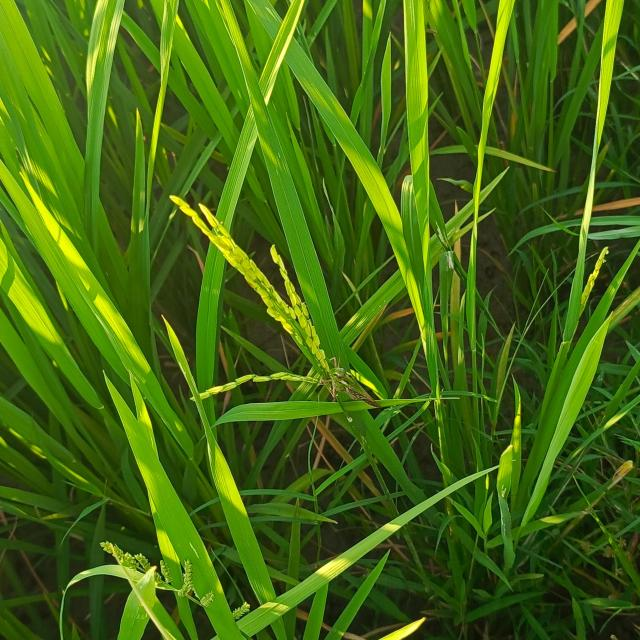belalang pada tanaman padi: (313, 346, 383, 404)
